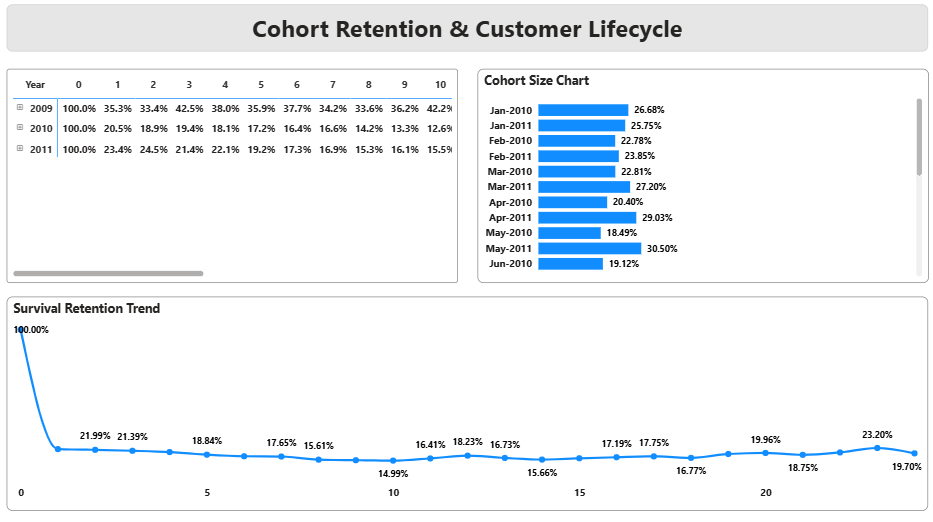

The page's visual inventory and layout, read from the dashboard file:
{"tool":"powerbi","page":{"name":"Cohort Retention & Customer Lifecycle","canvas":[1280,720],"ordinal":2},"visuals":[{"type":"textbox","box":[10.9,7.8,1258.9,64.1],"z":0},{"type":"pivotTable","fields":{"Rows":["cohort_retention_survival.CohortMonth.Variation.Date Hierarchy.Year","cohort_retention_survival.CohortMonth.Variation.Date Hierarchy.Month"],"Columns":["cohort_retention_survival.CohortPeriod"],"Values":["Avg(cohort_retention_survival.SurvivalRetention)"]},"box":[10.9,95.4,616.2,292.4],"z":1000},{"type":"barChart","title":"Cohort Size Chart","fields":{"Category":["cohort_retention_survival.Month"],"Y":["Avg(cohort_retention_survival.SurvivalRetention)"]},"box":[653.7,95.4,616.2,292.4],"z":2000},{"type":"lineChart","title":"Survival Retention Trend","fields":{"Category":["cohort_retention_survival.CohortPeriod"],"Y":["Avg(cohort_retention_survival.SurvivalRetention)"]},"box":[10.9,406.6,1258.9,292.4],"z":3000}]}

Visuals, with their boxes in screenshot pixels (x1, y1, x2, y2), scaled from the page's 1280x720 canvas onto the 933x522 screenshot:
textbox: l=8, t=6, r=926, b=52
pivotTable - cohort_retention_survival.CohortMonth.Variation.Date Hierarchy.Year x cohort_retention_survival.CohortMonth.Variation.Date Hierarchy.Month: l=8, t=69, r=457, b=281
"Cohort Size Chart" barChart: l=476, t=69, r=926, b=281
"Survival Retention Trend" lineChart: l=8, t=295, r=926, b=507
